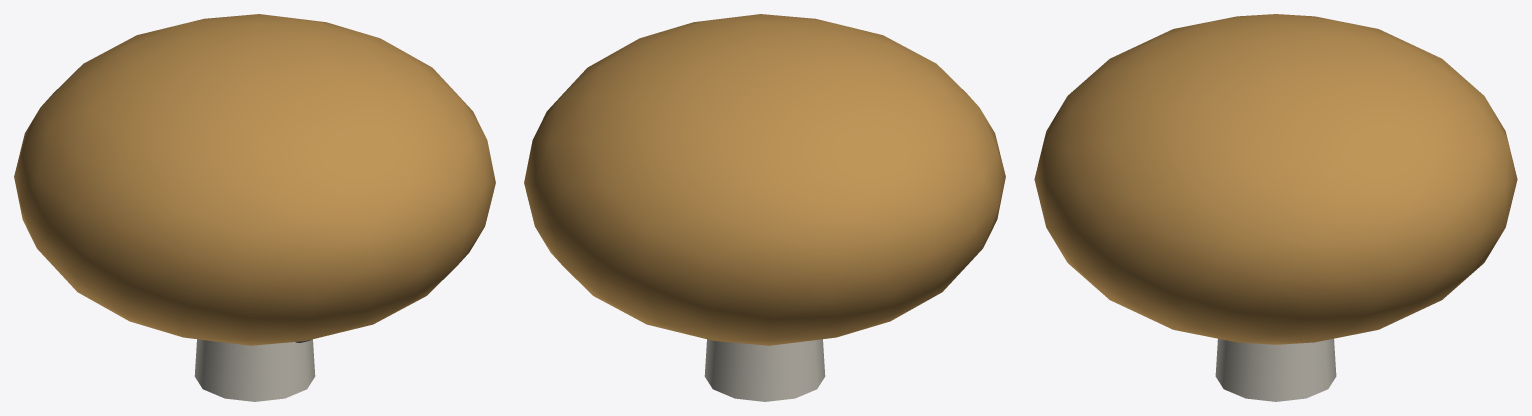
Rendered from marasmius-albogriseus.glb.
3 renders of one model, left to right at view 1: azimuth 30°, elevation 25°; view 2: azimuth 150°, elevation 25°; view 3: azimuth 270°, elevation 25°, orthographic.
Parts seen in each view (by area): view 1: cap, stalk; view 2: cap, stalk; view 3: cap, stalk.
Boxes of the visible parts, bbox=[...] form: cap: bbox=[14, 14, 495, 345]; stalk: bbox=[194, 339, 315, 401]; cap: bbox=[524, 14, 1005, 345]; stalk: bbox=[704, 339, 825, 401]; cap: bbox=[1034, 14, 1517, 344]; stalk: bbox=[1215, 338, 1336, 401].
Size of the model in its own units: 0.4 by 0.3 by 0.4.
